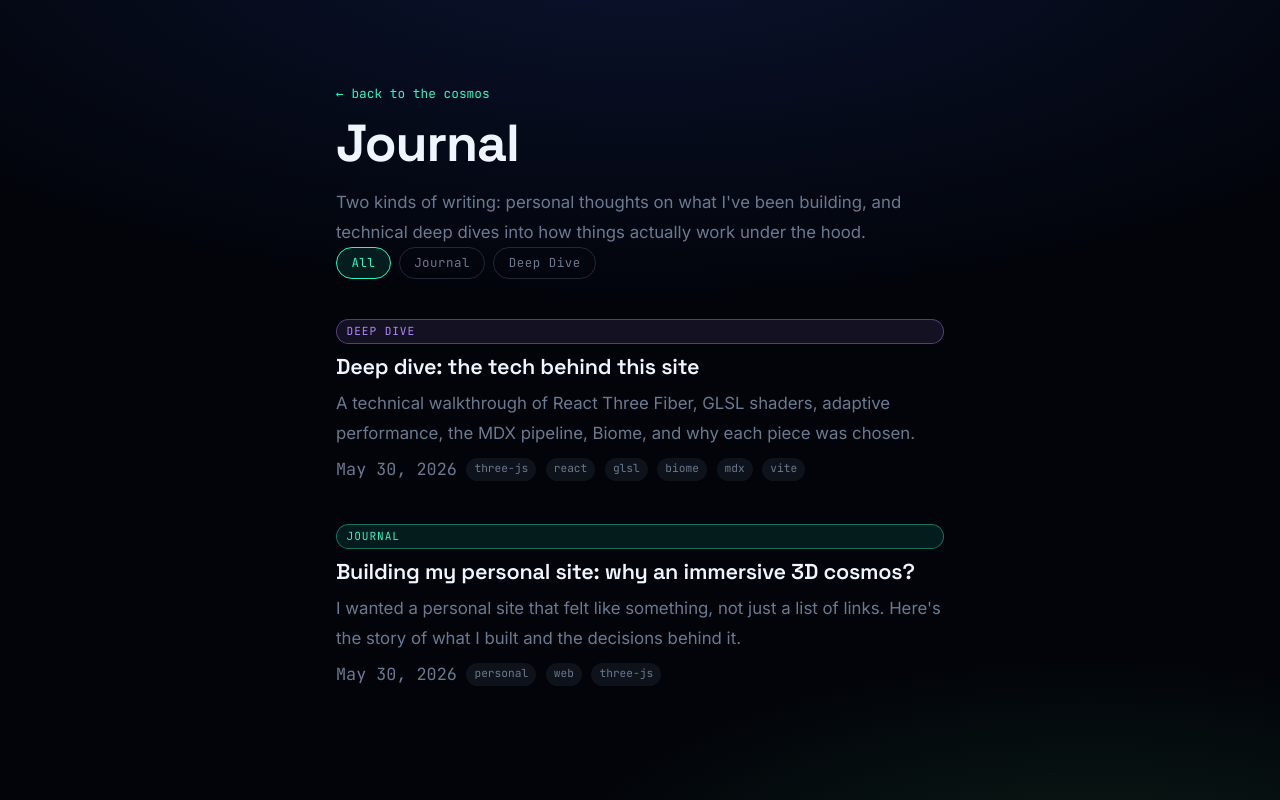
Test: <Blog /> › shows all posts again after clicking All
Click the button "Journal" at (442, 263), box 399,247 -> 485,279
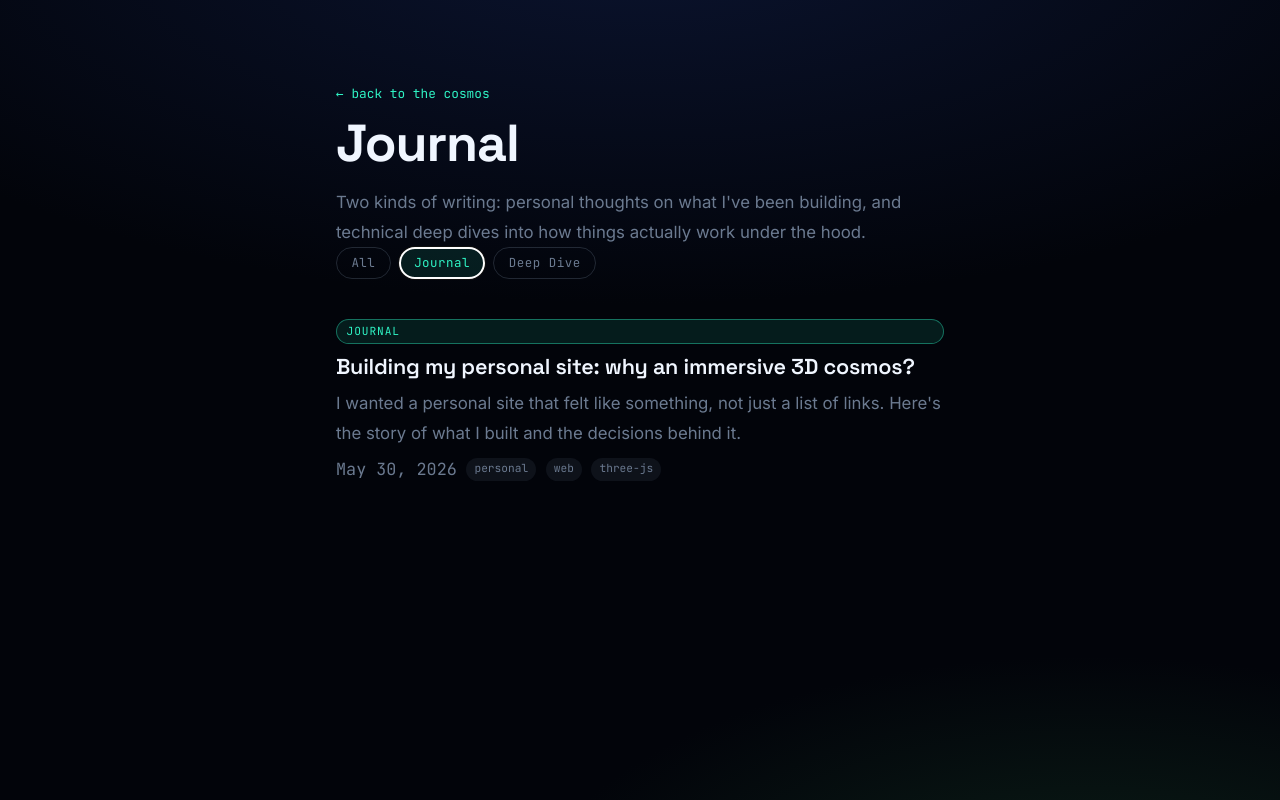
Click the button "All" at (363, 263), box 336,247 -> 391,279
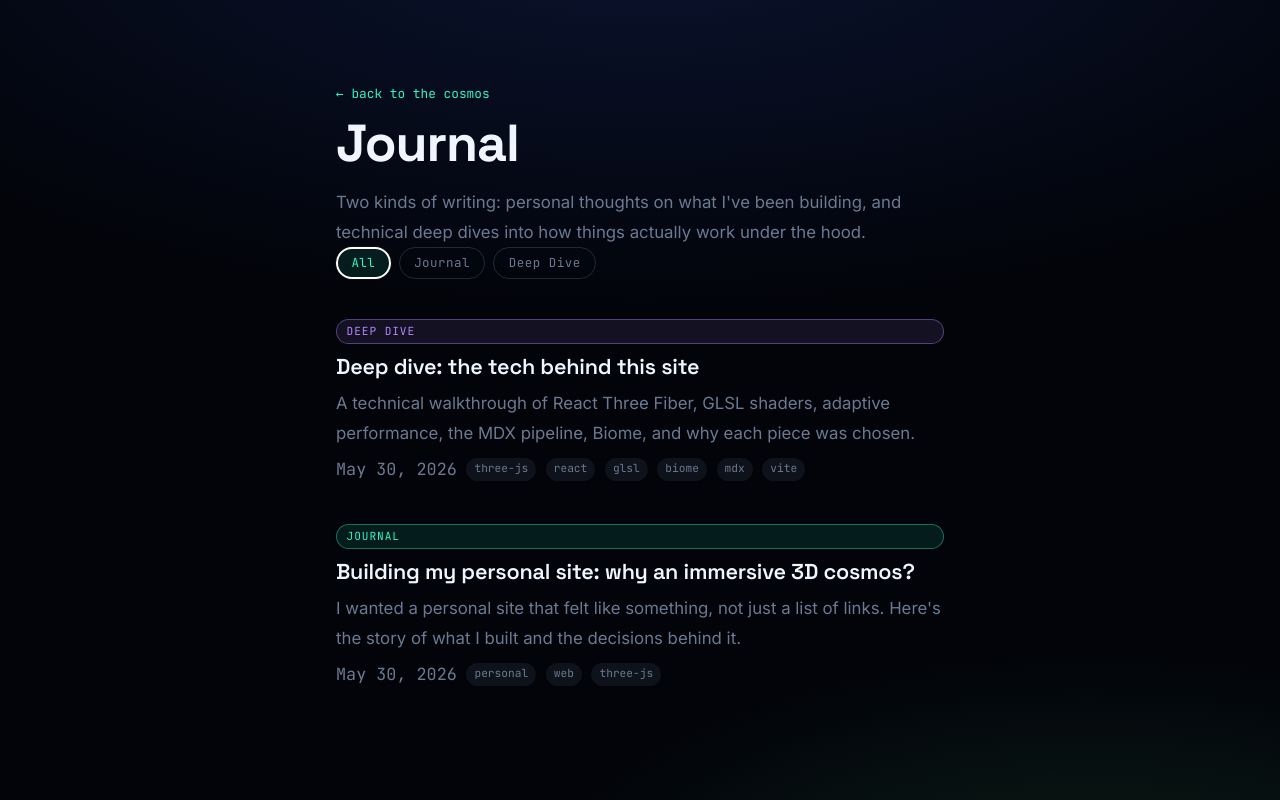
Expected: the number of list items is 2, 336,319 -> 944,484; 336,524 -> 944,689
